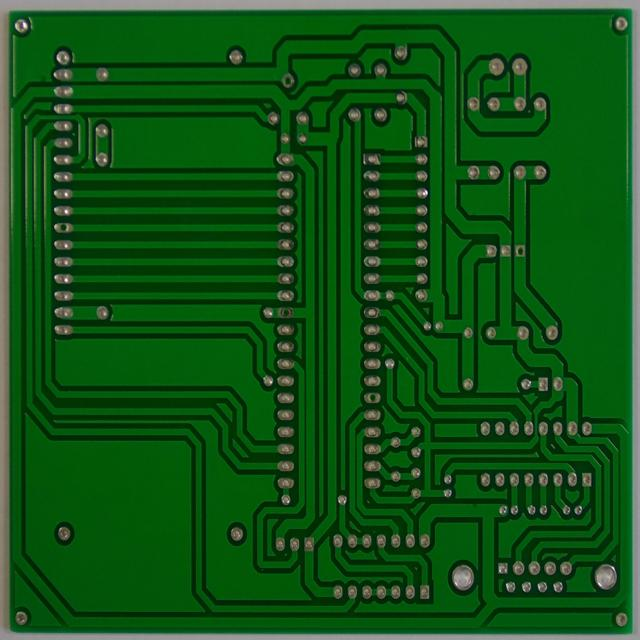missing_hole: (277, 303, 295, 320), (55, 218, 71, 236), (281, 72, 296, 91), (364, 391, 380, 408), (515, 243, 525, 259)
